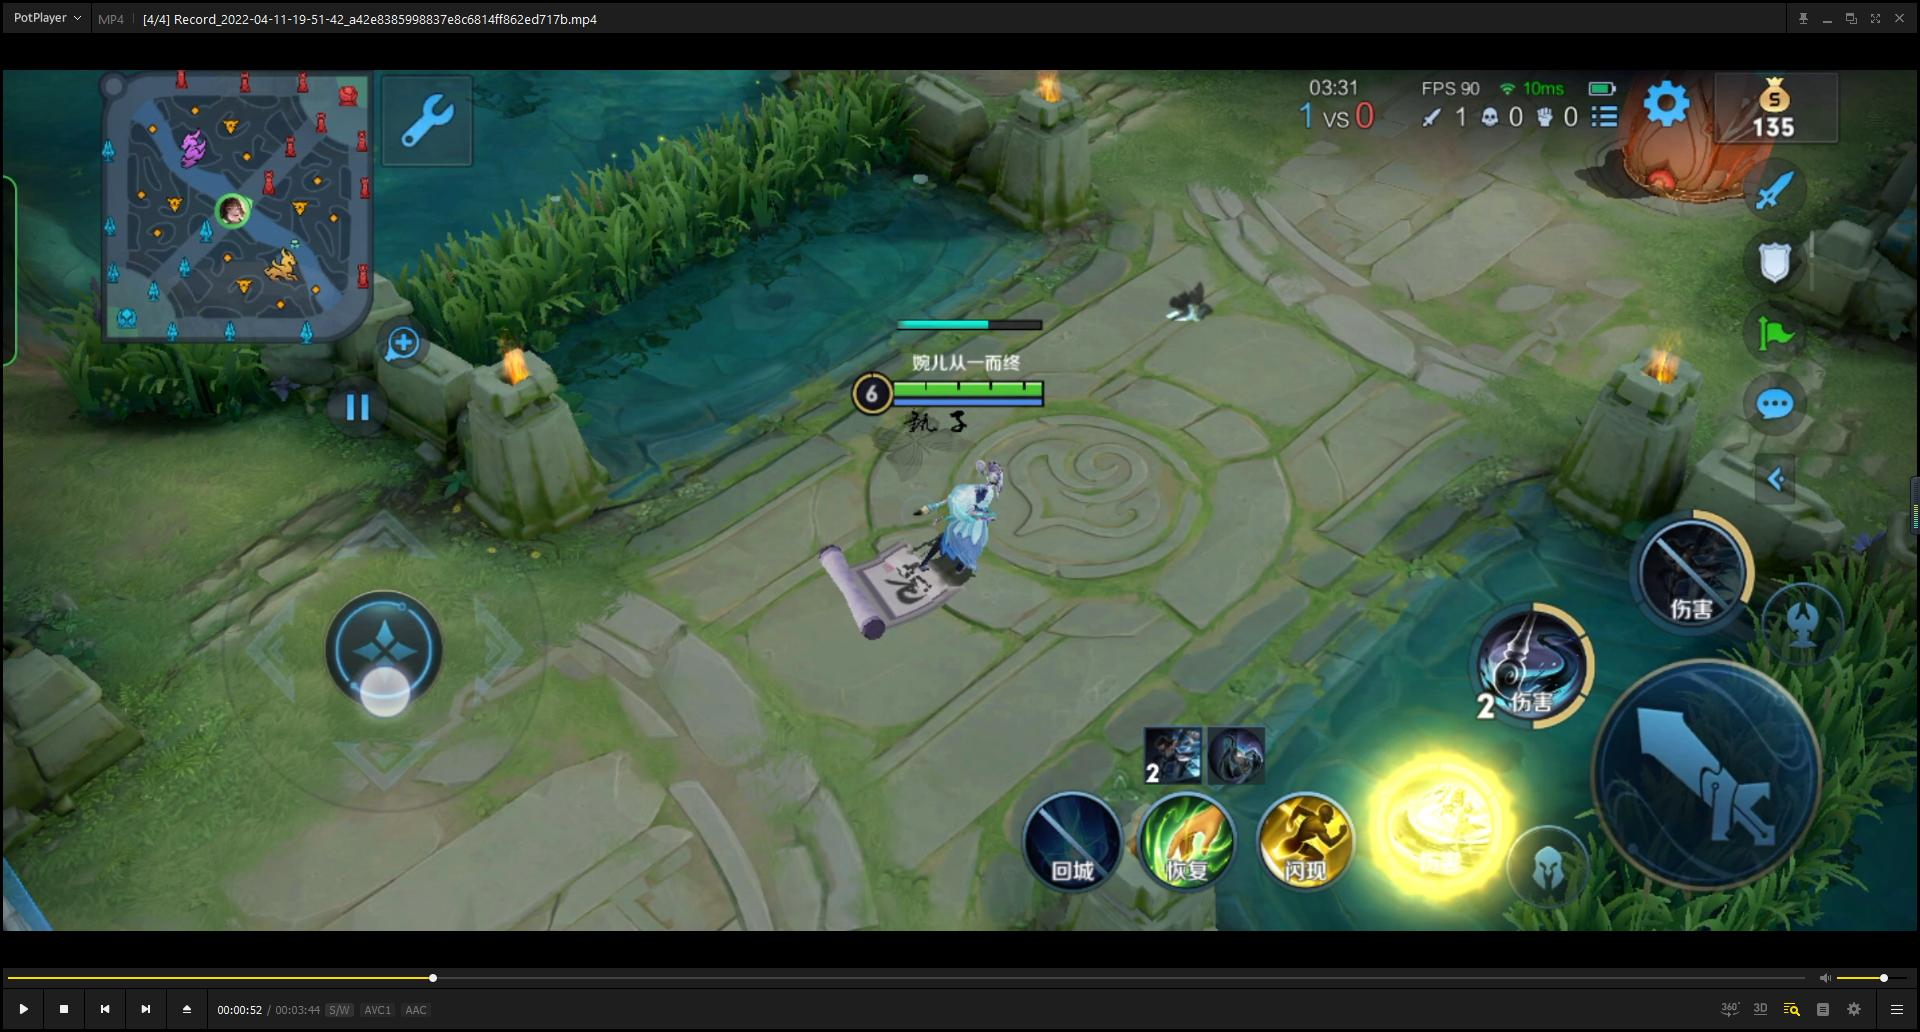Hero: (906, 455, 1015, 582)
Tower: (1600, 83, 1806, 207)
